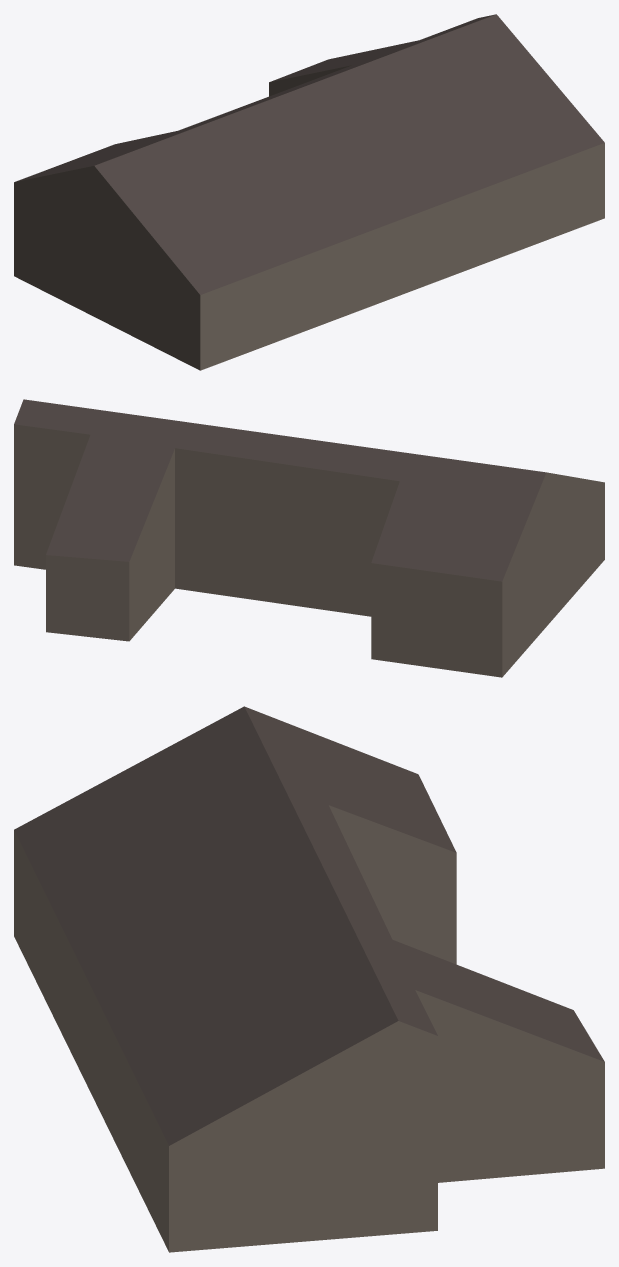
3 renders of one model, top to bottom at view 1: azimuth 30°, elevation 25°; view 2: azimuth 150°, elevation 25°; view 3: azimuth 270°, elevation 25°, orthographic. The views are drawn at different scales.
Parts seen in each view (by area): view 1: HP-w428179926; view 2: HP-w428179926; view 3: HP-w428179926.
Boxes of the visible parts, x1=… form: HP-w428179926: x1=14, y1=14, x2=604, y2=370; HP-w428179926: x1=14, y1=399, x2=604, y2=677; HP-w428179926: x1=14, y1=706, x2=604, y2=1252.
Bounding box in the file's own units: 20.88 × 6 × 15.08.
